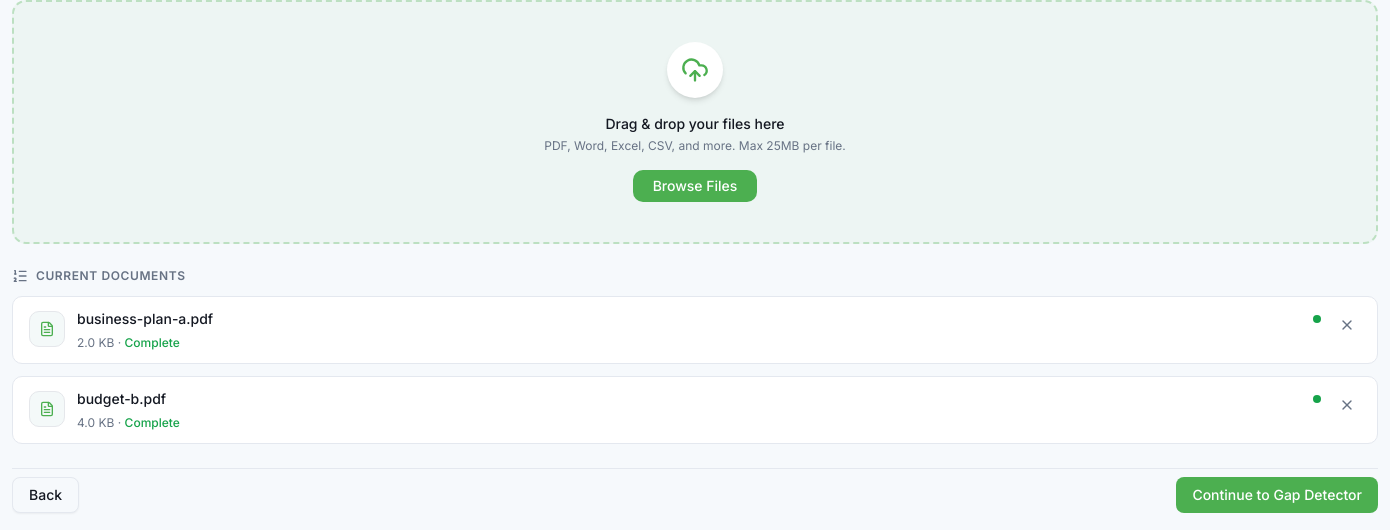
UploadBusinessPlanModal — removing a document › [FR-DDP-004 Sc 3 control] removes the document from the list when the deletion succeeds
Expected: the text "business-plan-a.pdf" is shown, [77,310,213,327]
Expected: the text "budget-b.pdf" is shown, [77,390,166,407]
Click the button named "remove file" in the row of "business-plan-a.pdf". click: x=1347, y=325
box: [1333,311,1361,339]
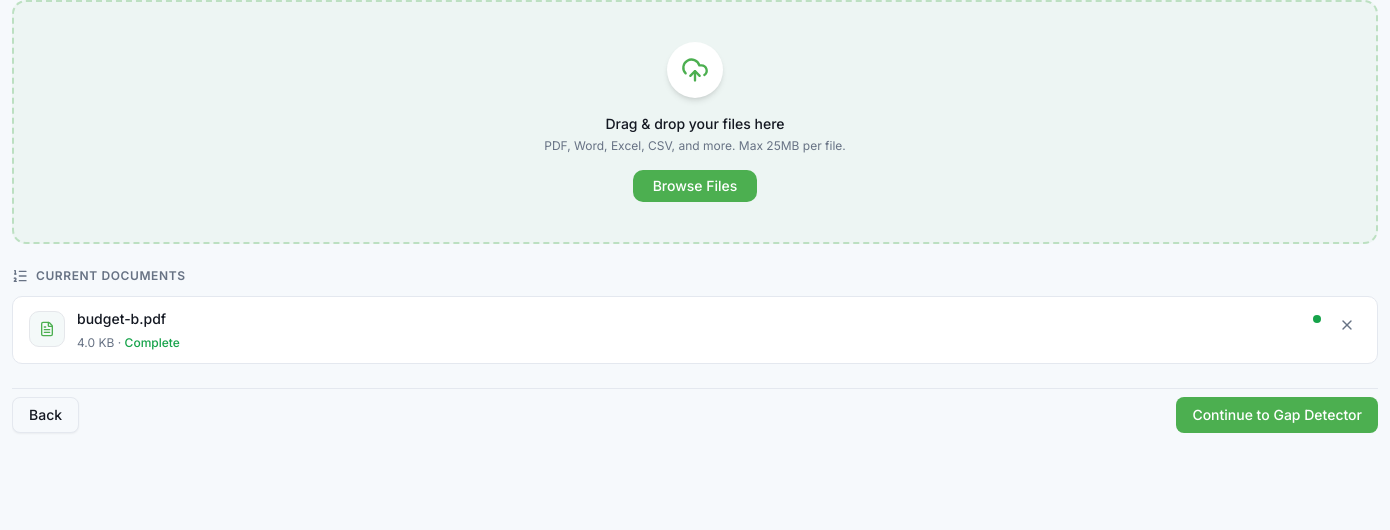
Expected: the text "budget-b.pdf" is shown, [77,310,166,327]
Expected: the text "business-plan-a.pdf" is gone
